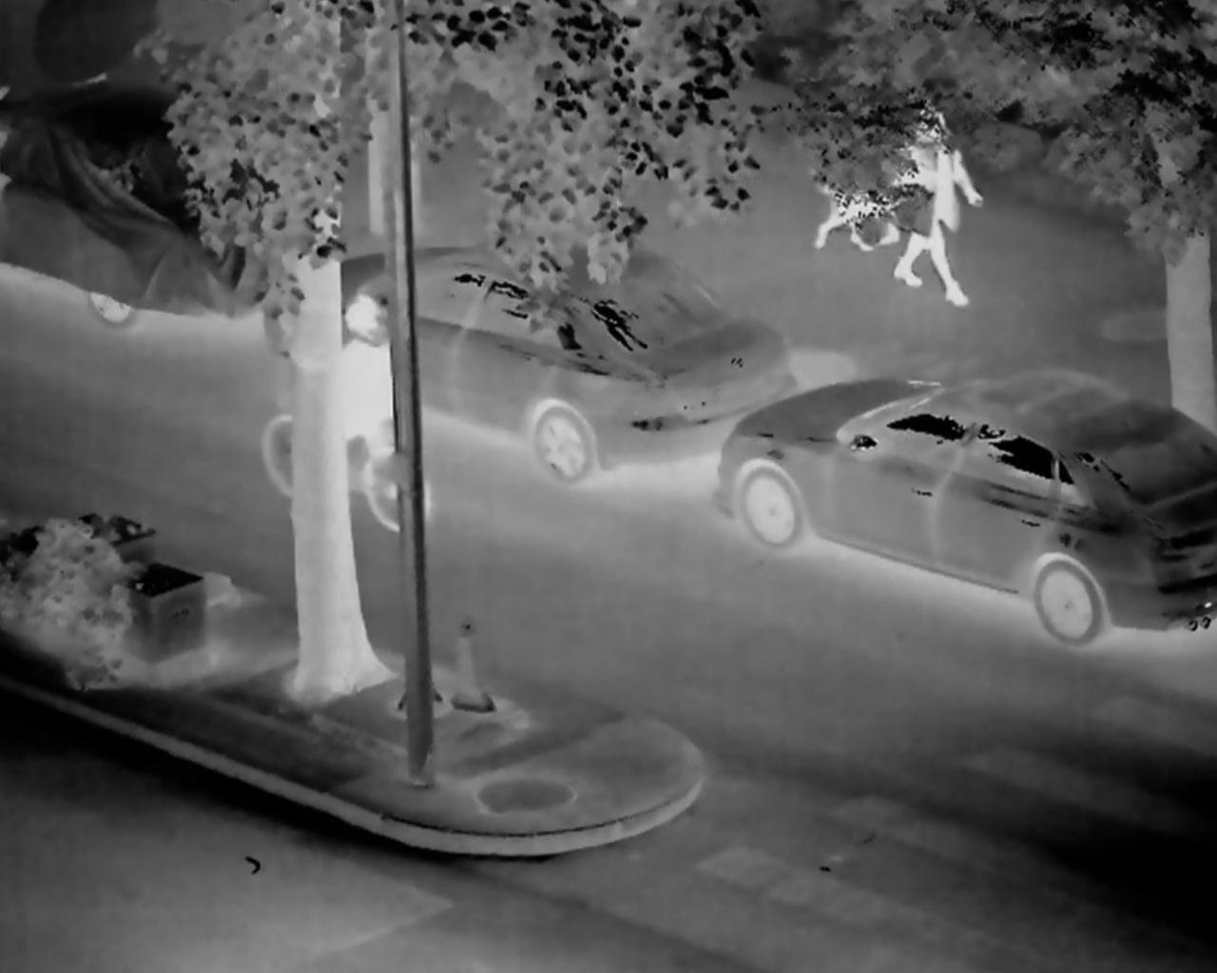person: (302, 285, 440, 507), (891, 88, 987, 314)
